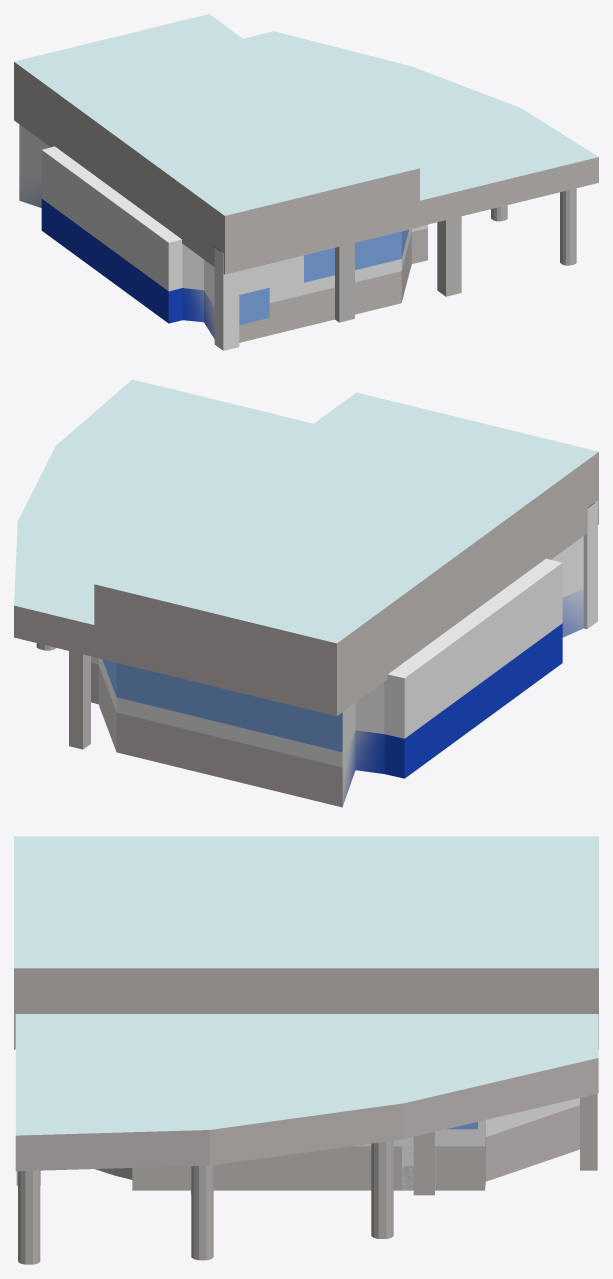
File: tamoku.glb
The picture shows the model from 3 angles, top to bottom: view 1: azimuth 30°, elevation 25°; view 2: azimuth 150°, elevation 25°; view 3: azimuth 270°, elevation 25°; orthographic projection. The views are drawn at different scales.
Parts seen in each view (by area): view 1: 多目的ホール・四角屋根, 多目的ホール, 多目的ホール・斜め屋根, 多目的ホール・四角柱.002, 多目的ホール・四角柱, 多目的ホール・四角柱.001, 多目的ホール・円柱; view 2: 多目的ホール・四角屋根, 多目的ホール, 多目的ホール・斜め屋根, 多目的ホール・四角柱_細め, 多目的ホール・四角柱.002; view 3: 多目的ホール・四角屋根, 多目的ホール・斜め屋根, 多目的ホール, 多目的ホール・円柱, 多目的ホール・中心の柱二本, 多目的ホール・四角柱_細め.
Boxes of the visible parts, bbox=[...] form: 多目的ホール・四角屋根: bbox=[14, 14, 419, 274]; 多目的ホール: bbox=[19, 124, 427, 342]; 多目的ホール・斜め屋根: bbox=[243, 31, 598, 226]; 多目的ホール・四角柱.002: bbox=[214, 247, 239, 350]; 多目的ホール・四角柱: bbox=[437, 216, 461, 296]; 多目的ホール・四角柱.001: bbox=[335, 243, 354, 322]; 多目的ホール・円柱: bbox=[491, 188, 576, 265]; 多目的ホール・四角屋根: bbox=[94, 392, 598, 716]; 多目的ホール: bbox=[91, 536, 583, 807]; 多目的ホール・斜め屋根: bbox=[14, 379, 313, 656]; 多目的ホール・四角柱_細め: bbox=[69, 651, 90, 749]; 多目的ホール・四角柱.002: bbox=[583, 500, 597, 628]; 多目的ホール・四角屋根: bbox=[14, 836, 598, 1049]; 多目的ホール・斜め屋根: bbox=[15, 1014, 598, 1171]; 多目的ホール: bbox=[95, 1098, 579, 1190]; 多目的ホール・円柱: bbox=[18, 1140, 393, 1264]; 多目的ホール・中心の柱二本: bbox=[191, 1132, 434, 1195]; 多目的ホール・四角柱_細め: bbox=[580, 1094, 597, 1170].
Bounding box in the file's own units: 6.46 × 2.18 × 6.08.
Materials: 1 (1 with a texture image).
